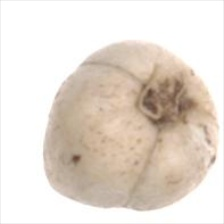L4: (42, 41, 218, 211)
